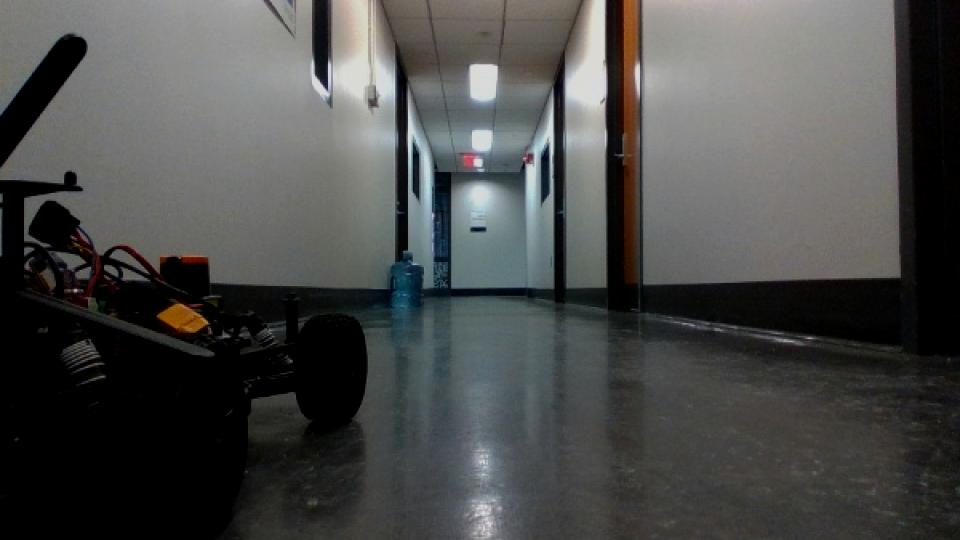car: (0, 30, 371, 540)
